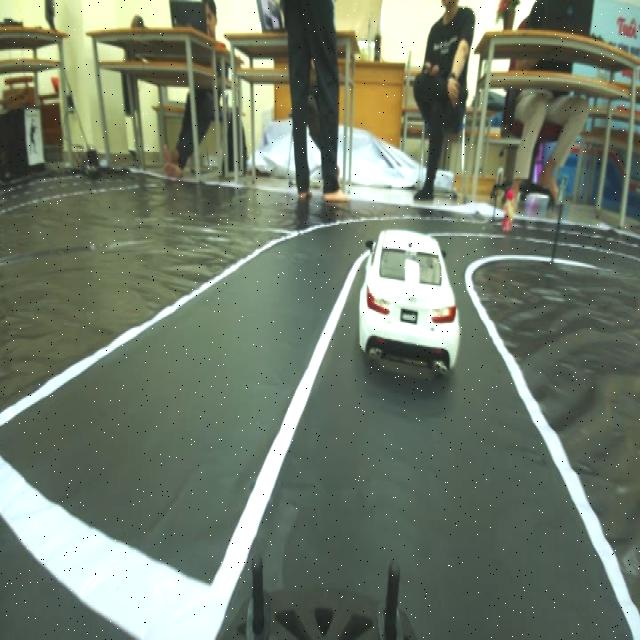car: (352, 207, 469, 386)
